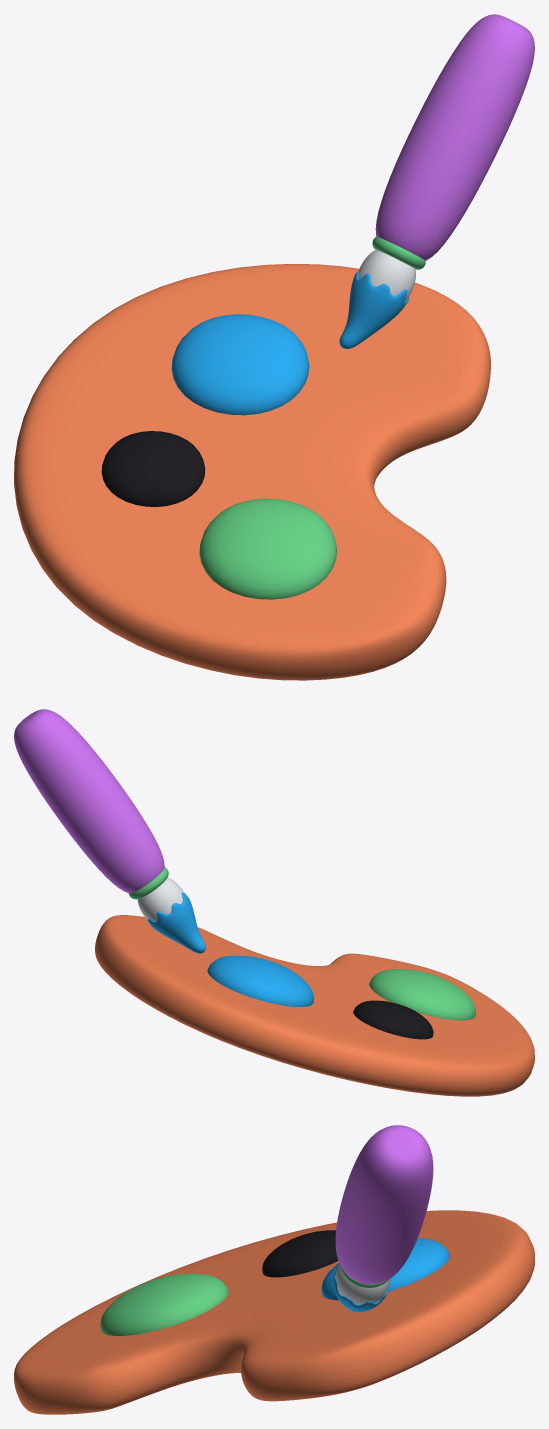
File: 4. Palette.glb
The picture shows the model from 3 angles, top to bottom: view 1: azimuth 30°, elevation 25°; view 2: azimuth 150°, elevation 25°; view 3: azimuth 270°, elevation 25°; orthographic projection. The views are drawn at different scales.
Visible parts, largest first — view 1: Palette, Brush, Cube.002, Cube.004, Cube.003, Cube.001, Cube; view 2: Palette, Brush, Cube.004, Cube.002, Cube.003, Cube.001, Cube; view 3: Palette, Brush, Cube.002, Cube.003, Cube.004, Cube, Cube.001.
Boxes of the visible parts, <box> form: Palette: <box>14,264,490,680</box>; Brush: <box>375,14,534,260</box>; Cube.002: <box>199,498,336,599</box>; Cube.004: <box>171,314,309,415</box>; Cube.003: <box>101,431,205,506</box>; Cube.001: <box>339,272,409,348</box>; Cube: <box>358,250,415,301</box>; Palette: <box>95,915,534,1096</box>; Brush: <box>14,709,164,893</box>; Cube.004: <box>207,955,313,1006</box>; Cube.002: <box>369,969,475,1020</box>; Cube.003: <box>353,1000,433,1039</box>; Cube.001: <box>147,892,205,953</box>; Cube: <box>137,877,184,921</box>; Palette: <box>14,1210,534,1414</box>; Brush: <box>335,1125,433,1284</box>; Cube.002: <box>100,1273,228,1335</box>; Cube.003: <box>262,1230,338,1277</box>; Cube.004: <box>321,1237,449,1300</box>; Cube: <box>335,1263,390,1304</box>; Cube.001: <box>333,1264,389,1312</box>.
Size of the model in its own units: 0.7617 by 0.5876 by 0.6506.
